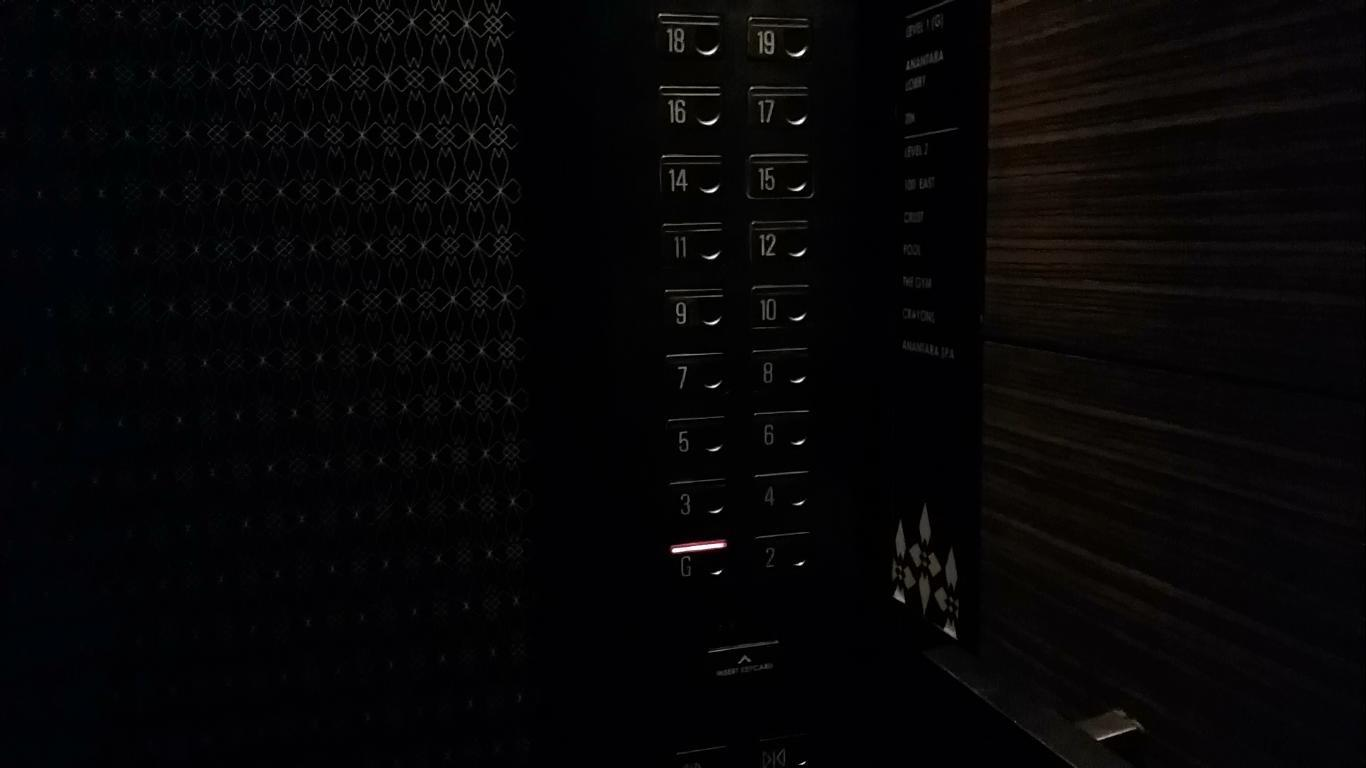10: (745, 282, 814, 332)
11: (661, 222, 729, 272)
12: (746, 218, 814, 270)
14: (656, 150, 725, 201)
15: (745, 151, 815, 201)
16: (655, 82, 725, 135)
17: (745, 82, 811, 136)
18: (654, 10, 722, 64)
19: (745, 14, 813, 68)
2: (748, 528, 818, 580)
3: (664, 474, 733, 530)
4: (751, 468, 818, 520)
5: (660, 413, 732, 465)
6: (748, 406, 817, 462)
7: (657, 350, 730, 402)
8: (747, 343, 815, 396)
9: (659, 289, 725, 336)
G: (668, 538, 731, 586)
